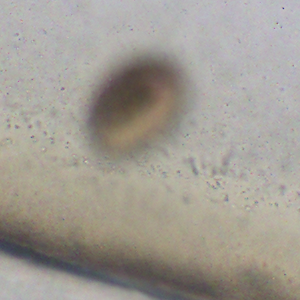Fasciola_hepatica_egg: (85, 54, 191, 163)
